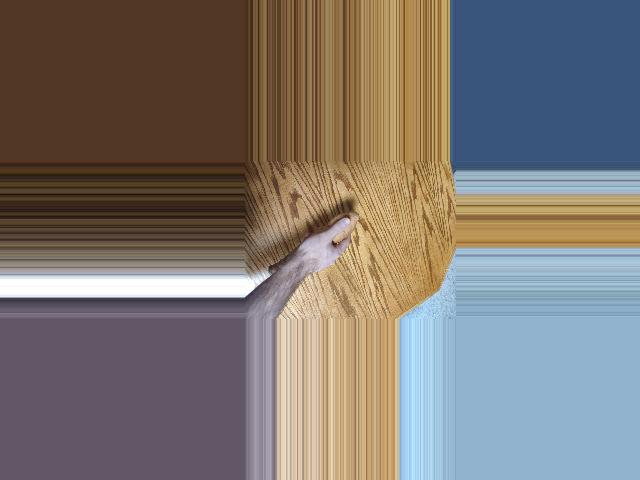sweet_potato: (269, 210, 360, 273)
